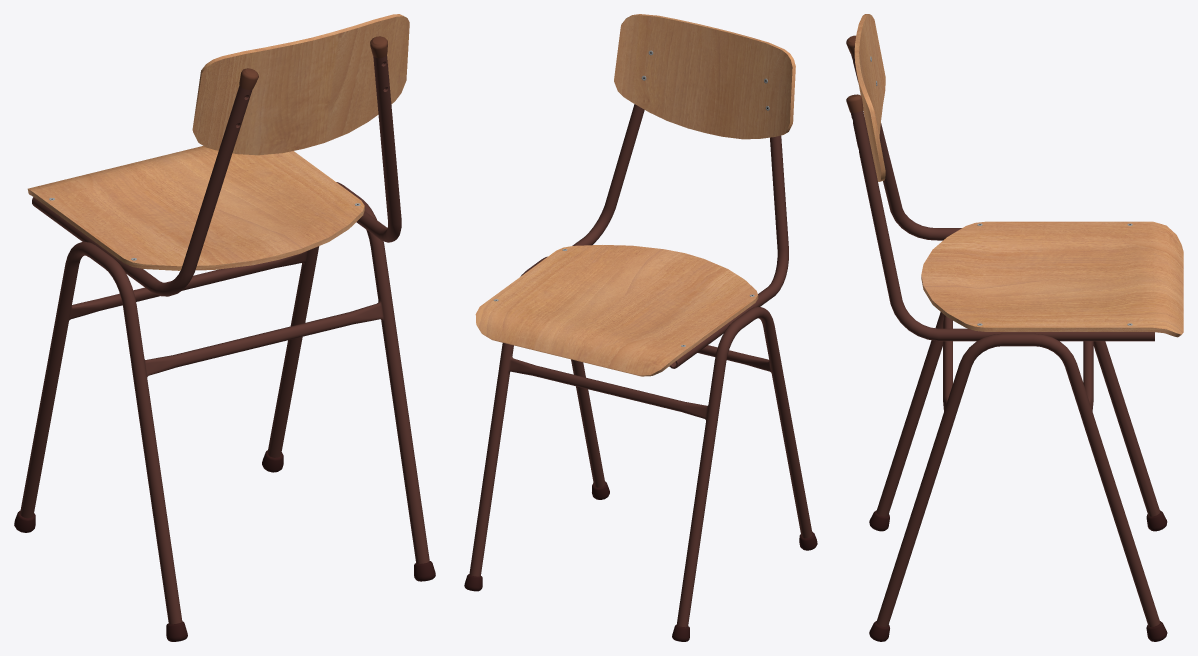
Rendered from chair.glb.
3 renders of one model, left to right at view 1: azimuth 30°, elevation 25°; view 2: azimuth 150°, elevation 25°; view 3: azimuth 270°, elevation 25°, orthographic. The views are drawn at different scales.
Parts seen in each view (by area): view 1: School Chair_0; view 2: School Chair_0; view 3: School Chair_0.
Boxes of the visible parts, x1,y1,x2,y2 form: School Chair_0: (14, 14, 435, 641); School Chair_0: (464, 14, 817, 641); School Chair_0: (846, 14, 1183, 641).
Size of the model in its own units: 4.05 by 8.46 by 4.86.
1 material, 1 textured.
